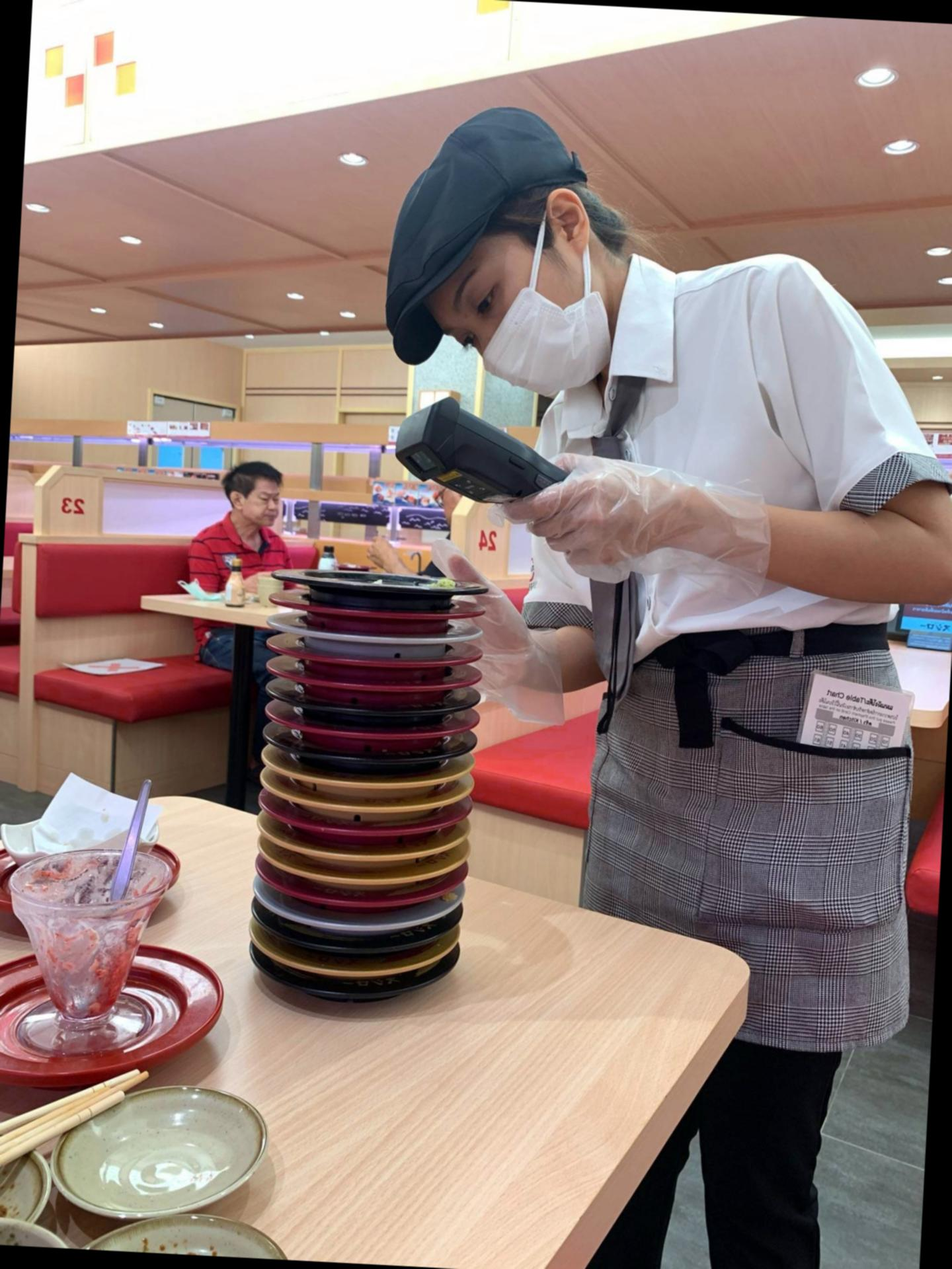Janback: (270, 570, 477, 604), (277, 746, 461, 775), (260, 700, 474, 724), (274, 979, 431, 1005), (259, 935, 440, 956)
Jangold: (267, 832, 448, 868), (281, 770, 440, 798), (281, 791, 439, 819), (270, 952, 417, 981), (273, 864, 425, 890)
Janred: (271, 603, 476, 630), (275, 653, 463, 680), (283, 723, 455, 748), (289, 677, 455, 702), (275, 887, 424, 913), (281, 819, 438, 842)
Janwhite: (285, 628, 456, 655), (274, 913, 436, 934)
